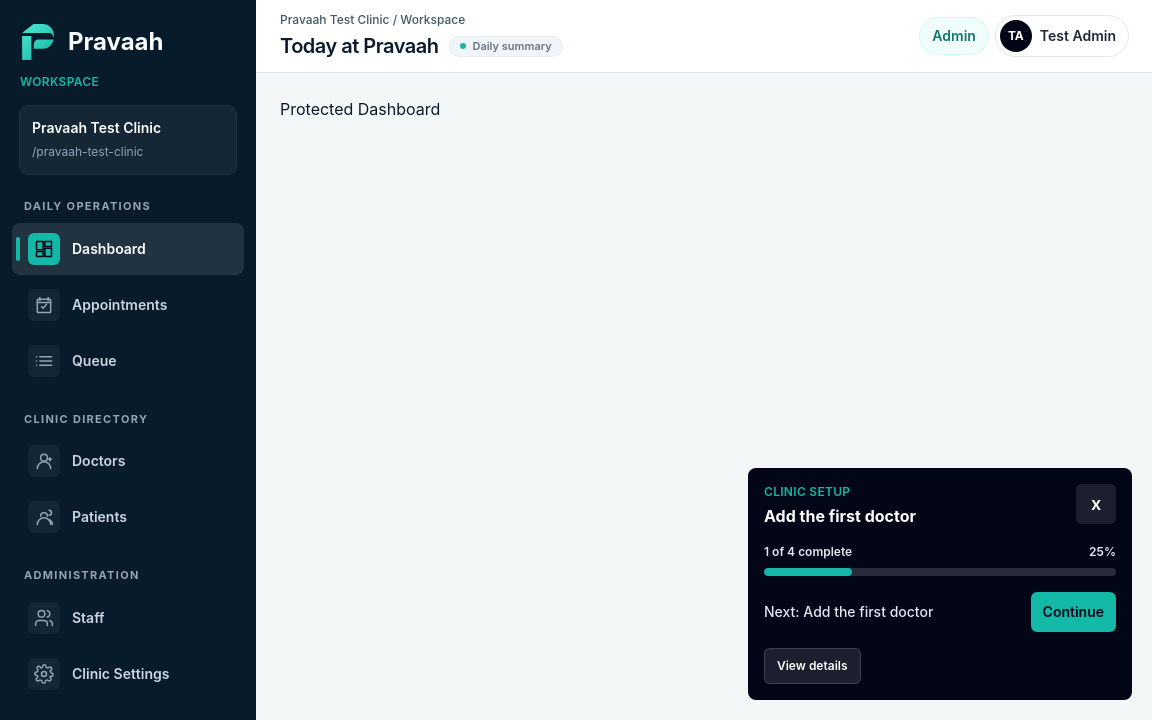
Test: ProtectedAppShell › navigates from the account menu to the profile page
expect the heading "Protected Dashboard" is shown: met, box top-left (280, 99), bottom-right (440, 119)
Click the button "TA Test Admin". click: (1062, 36)
box: top-left (996, 16), bottom-right (1128, 56)
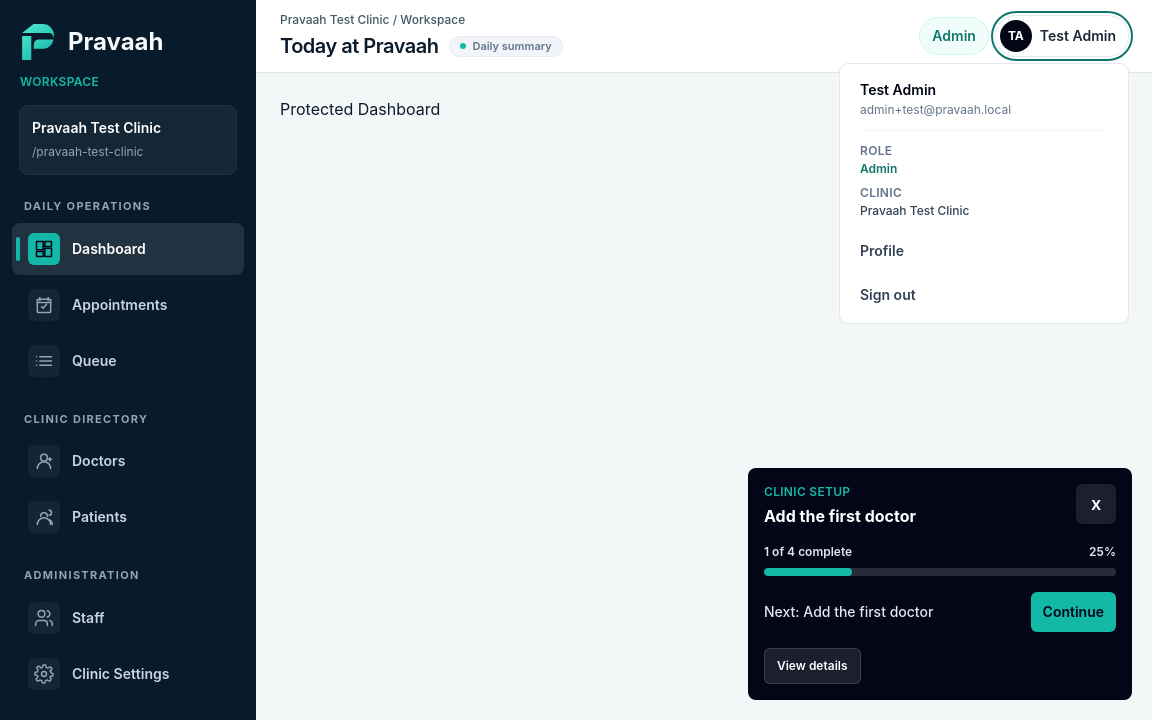
Click the link "Profile". click: (882, 250)
box: top-left (860, 242), bottom-right (904, 259)
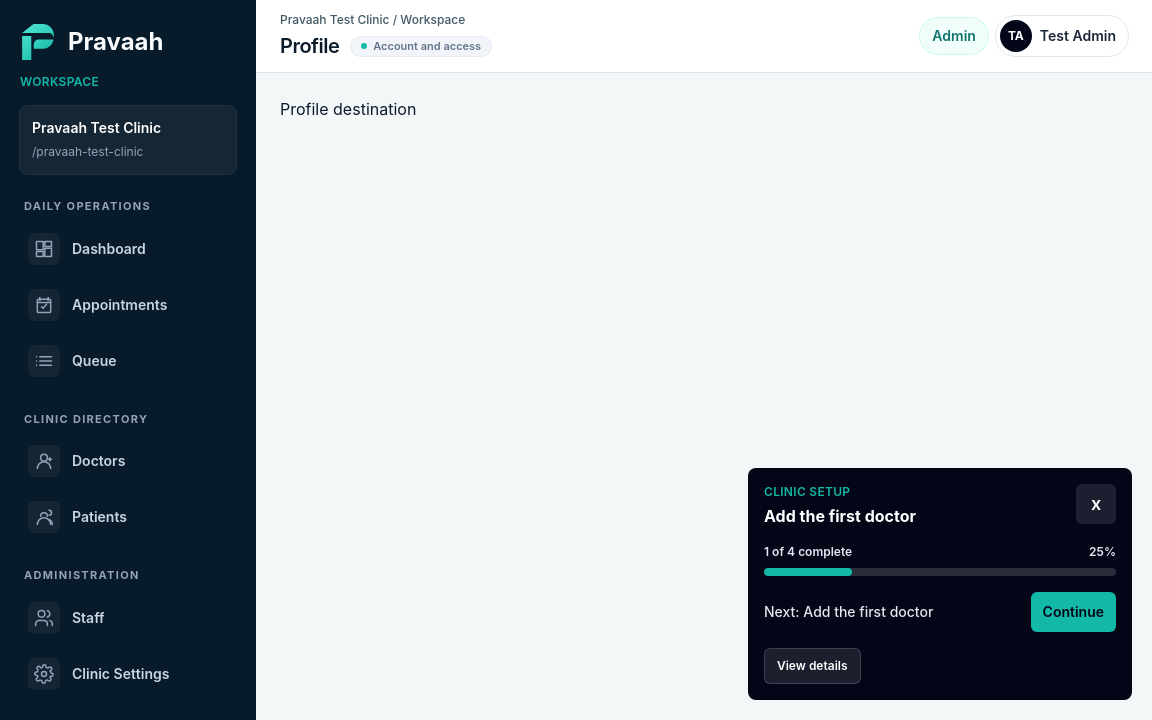
expect the heading "Profile destination" is shown: met, box top-left (280, 99), bottom-right (416, 119)
